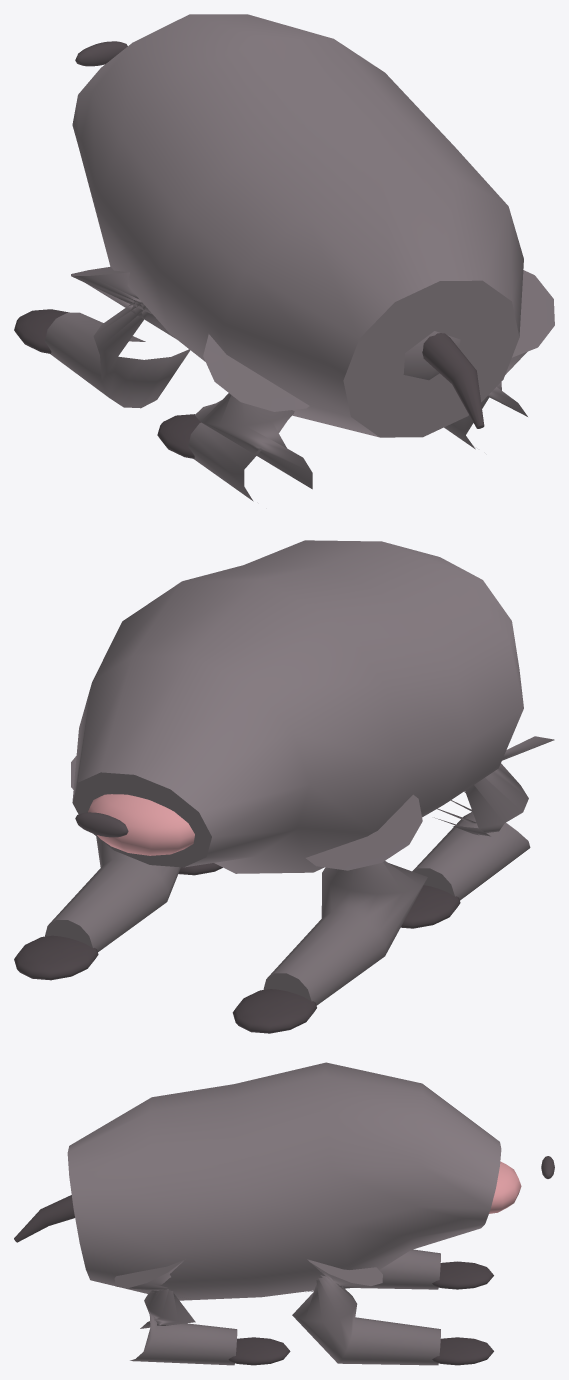
File: hippo_hero.glb
3 views of the same model, one above another, from view 1: azimuth 30°, elevation 25°; view 2: azimuth 150°, elevation 25°; view 3: azimuth 270°, elevation 25° (orthographic). The views are drawn at different scales.
Visible parts, largest first — view 1: HippoOrganicBody, Leg_LH, Leg_LF, Leg_RH, Tail, Paw_LF, Paw_LH, HindQuarter, Nose; view 2: HippoOrganicBody, Leg_LF, Leg_LH, Leg_RF, WideMuzzle, Paw_RF, Paw_LF, Paw_LH, Nose; view 3: HippoOrganicBody, Leg_RF, Leg_RH, Leg_LF, Paw_RF, Paw_LF, Paw_RH, Tail, WideMuzzle.
Boxes of the visible parts, x1=… form: HippoOrganicBody: x1=72, y1=14, x2=523, y2=437; Leg_LH: x1=188, y1=334, x2=312, y2=501; Leg_LF: x1=45, y1=266, x2=190, y2=408; Leg_RH: x1=444, y1=270, x2=554, y2=449; Tail: x1=422, y1=333, x2=484, y2=428; Paw_LF: x1=14, y1=309, x2=69, y2=353; Paw_LH: x1=157, y1=414, x2=200, y2=458; HindQuarter: x1=403, y1=331, x2=460, y2=380; Nose: x1=75, y1=41, x2=127, y2=66; HippoOrganicBody: x1=72, y1=540, x2=523, y2=873; Leg_LF: x1=263, y1=794, x2=427, y2=1005; Leg_LH: x1=412, y1=736, x2=554, y2=900; Leg_RF: x1=45, y1=756, x2=180, y2=951; WideMuzzle: x1=88, y1=794, x2=194, y2=855; Paw_RF: x1=14, y1=935, x2=98, y2=980; Paw_LF: x1=232, y1=989, x2=316, y2=1033; Paw_LH: x1=401, y1=885, x2=460, y2=928; Nose: x1=75, y1=812, x2=128, y2=837; HippoOrganicBody: x1=67, y1=1062, x2=501, y2=1300; Leg_RF: x1=292, y1=1259, x2=440, y2=1365; Leg_RH: x1=114, y1=1259, x2=237, y2=1365; Leg_LF: x1=354, y1=1249, x2=440, y2=1289; Paw_RF: x1=432, y1=1337, x2=493, y2=1365; Paw_LF: x1=432, y1=1261, x2=493, y2=1289; Paw_RH: x1=228, y1=1337, x2=290, y2=1365; Tail: x1=14, y1=1195, x2=74, y2=1242; WideMuzzle: x1=489, y1=1161, x2=521, y2=1213.
Size of the model in its own units: 2.41 by 2.39 by 4.69.
